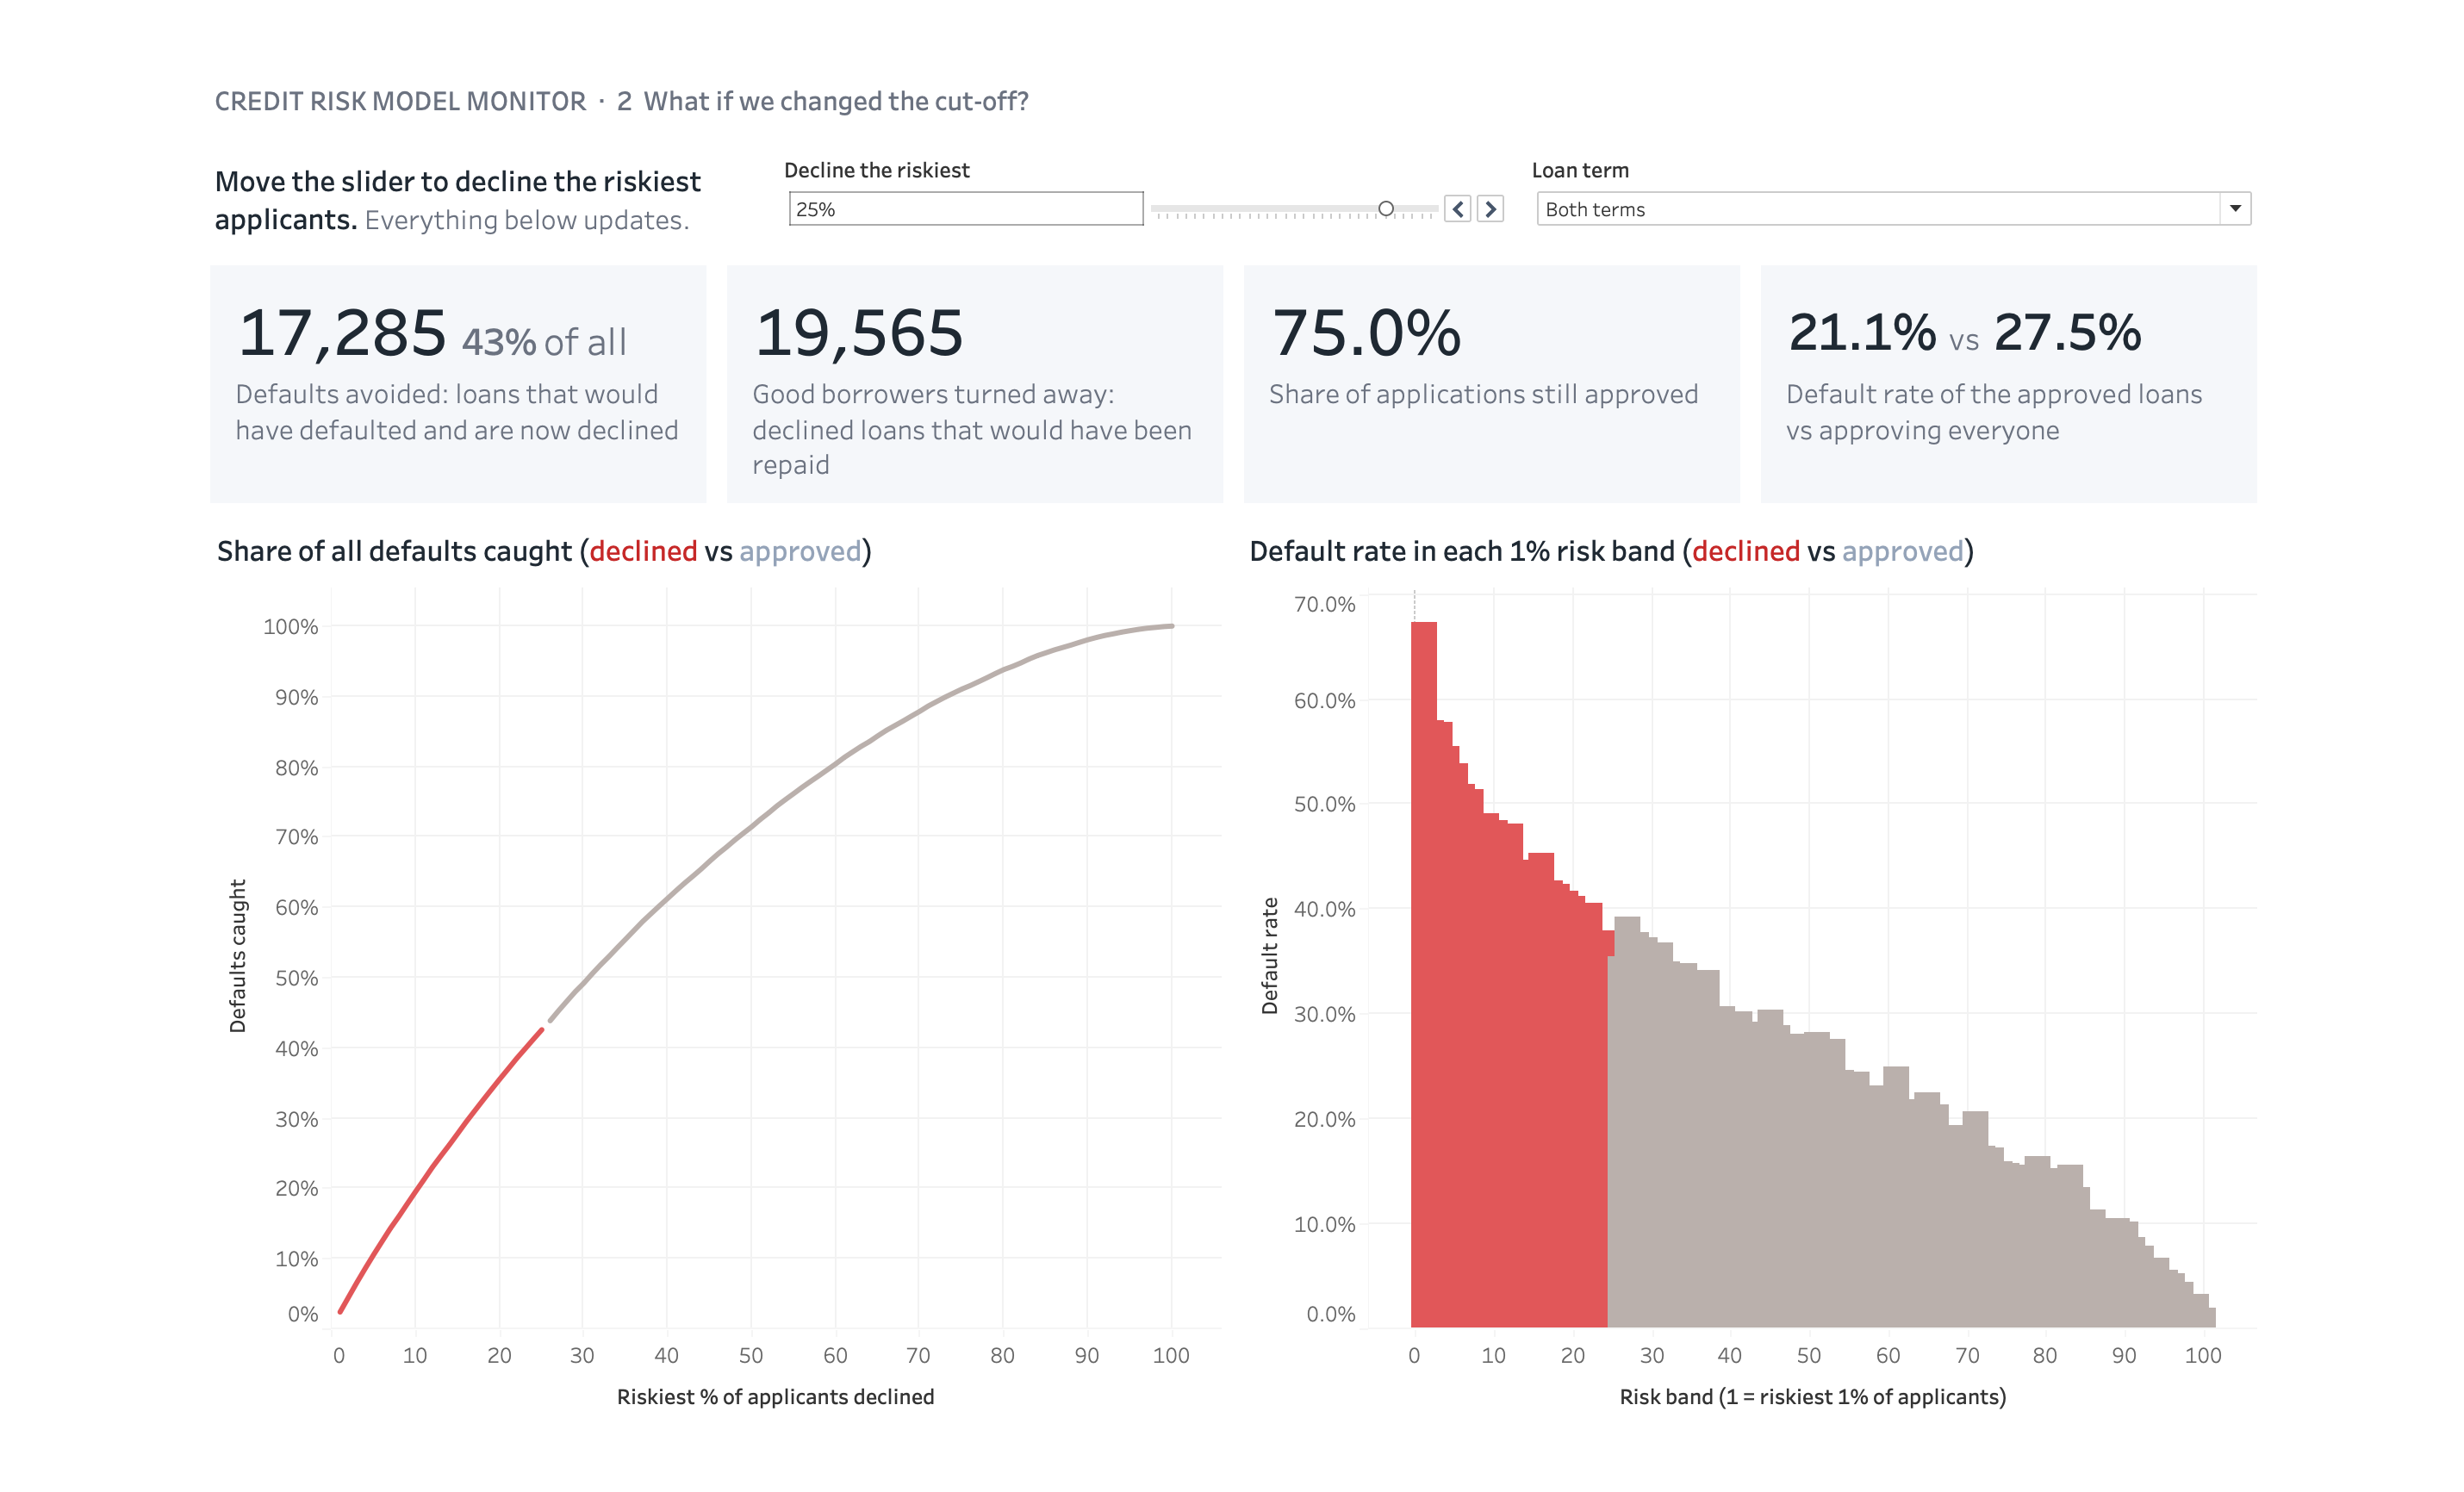

This screenshot's page, from the dashboard's own definition file:
{"tool":"tableau","page":{"name":"2 - What if we changed the cut-off","canvas":[1200,800],"ordinal":1},"visuals":[{"type":"text","box":[0,0,1200,52]},{"type":"text","box":[0,52,333.3,64]},{"type":"parameter","param":"[Parameters].[Parameter 1]","box":[333.3,52,433.3,64]},{"type":"parameter","param":"[Parameters].[Parameter 2]","box":[766.7,52,433.3,64]},{"type":"worksheet","title":"Cut-off - Defaults avoided","mark":"Text","box":[18,134,264,52]},{"type":"worksheet","title":"Cut-off - Turned away","mark":"Text","box":[318,134,264,52]},{"type":"worksheet","title":"Cut-off - Approval rate","mark":"Text","box":[618,134,264,52]},{"type":"worksheet","title":"Cut-off - Approved default rate","mark":"Text","box":[918,134,264,52]},{"type":"text","box":[18,186,264,42]},{"type":"text","box":[318,186,264,62]},{"type":"text","box":[618,186,264,21]},{"type":"text","box":[918,186,264,42]},{"type":"worksheet","title":"Cut-off - Capture curve","mark":"Line","rows":["Calculation_7310000000000000038"],"cols":["risk_band"],"box":[0,266,598.5,534]},{"type":"worksheet","title":"Cut-off - Default rate by band","mark":"Bar","rows":["Calculation_7310000000000000035"],"cols":["risk_band"],"box":[598.5,266,601.5,534]}]}

Visuals, with their boxes on the page's 1200x800 design canvas (x1, y1, x2, y2). These are canvas units, not pixel positions in the 2464x1492 screenshot, which may show the page scaled, cropped or inside an application window:
text: crop(0, 0, 1200, 52)
text: crop(0, 52, 333, 116)
parameter: crop(333, 52, 767, 116)
parameter: crop(767, 52, 1200, 116)
"Cut-off - Defaults avoided" worksheet (Text marks): crop(18, 134, 282, 186)
"Cut-off - Turned away" worksheet (Text marks): crop(318, 134, 582, 186)
"Cut-off - Approval rate" worksheet (Text marks): crop(618, 134, 882, 186)
"Cut-off - Approved default rate" worksheet (Text marks): crop(918, 134, 1182, 186)
text: crop(18, 186, 282, 228)
text: crop(318, 186, 582, 248)
text: crop(618, 186, 882, 207)
text: crop(918, 186, 1182, 228)
"Cut-off - Capture curve" worksheet (Line marks): crop(0, 266, 598, 800)
"Cut-off - Default rate by band" worksheet (Bar marks): crop(598, 266, 1200, 800)
